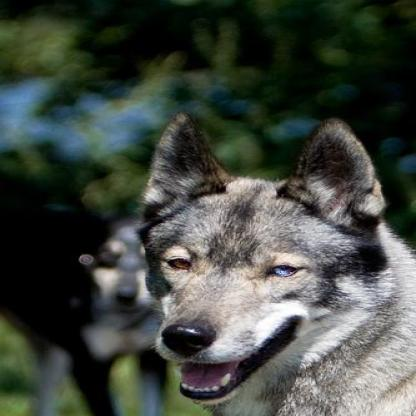Eskimo_dog: (131, 112, 412, 414)
